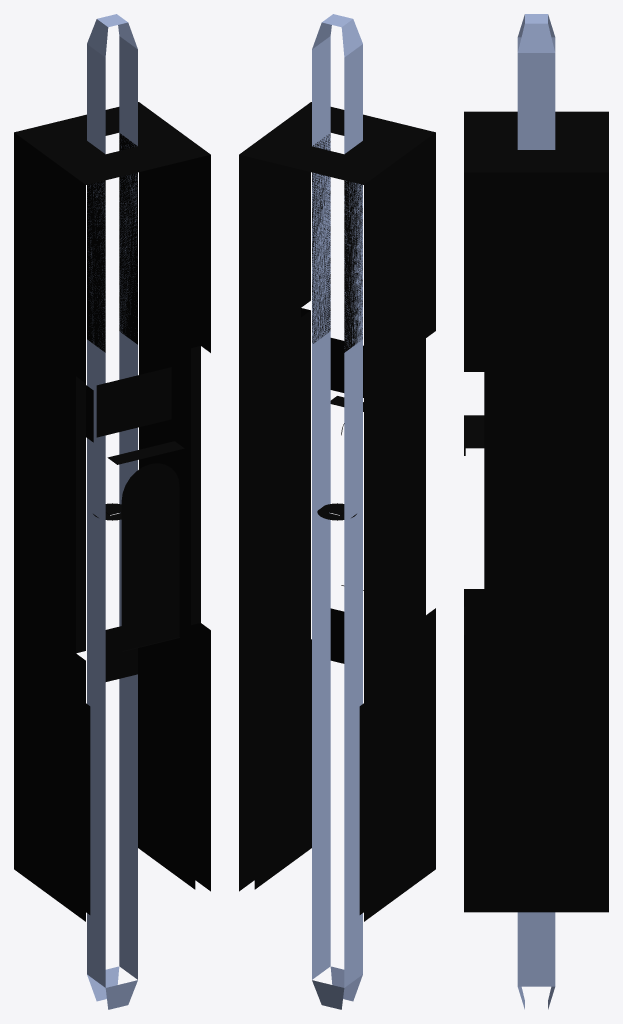
Rendered from jumpwire head.fbx.
3 views of the same model, side by side, from view 1: azimuth 30°, elevation 25°; view 2: azimuth 150°, elevation 25°; view 3: azimuth 270°, elevation 25° (orthographic).
Parts seen in each view (by area): view 1: meshes[0]; view 2: meshes[0]; view 3: meshes[0].
Boxes of the visible parts, x1,y1,x2,y2 form: meshes[0]: (14,14,210,1009); meshes[0]: (239,14,435,1009); meshes[0]: (464,14,608,1009).
Bounding box in the file's own units: 1.46 × 10.95 × 1.46.
